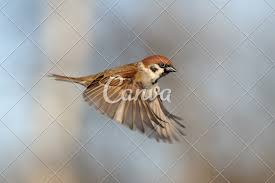hsparrow: (49, 53, 192, 145)
